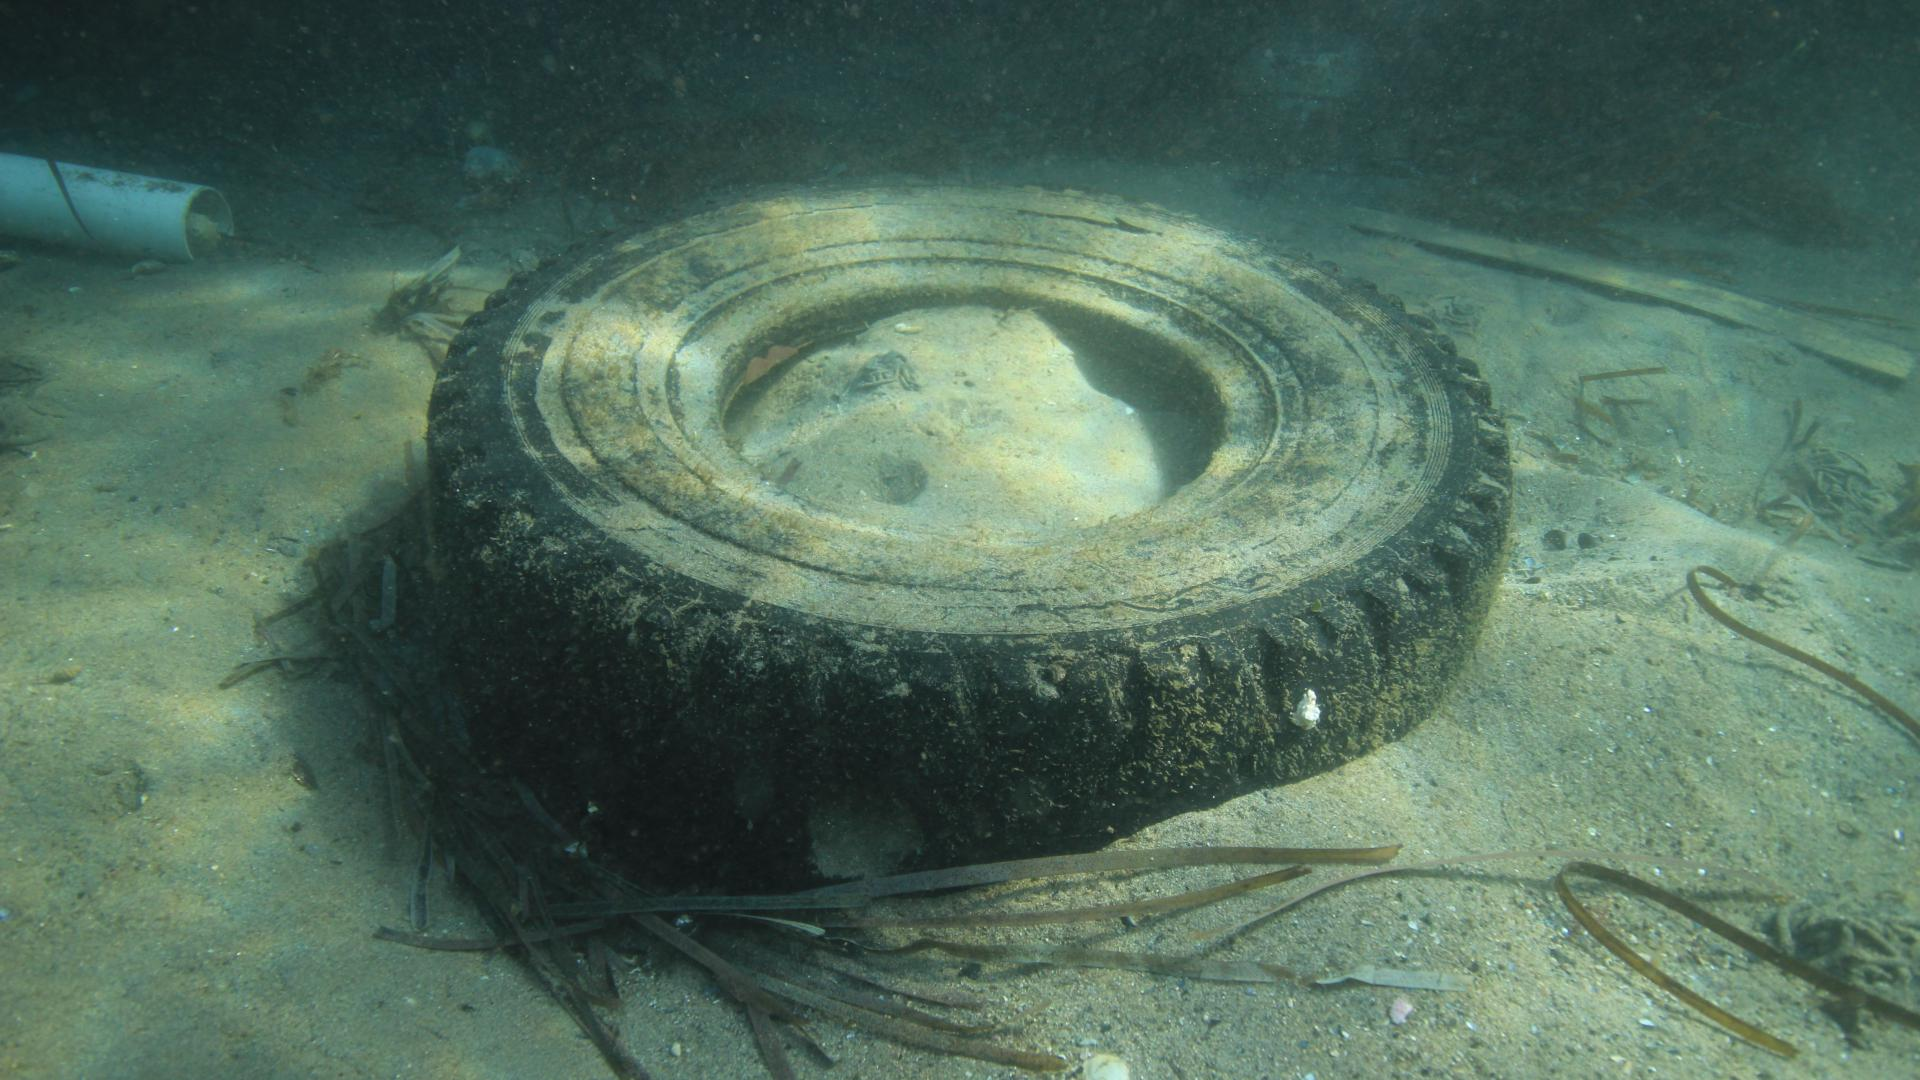tire: (425, 182, 1510, 882)
